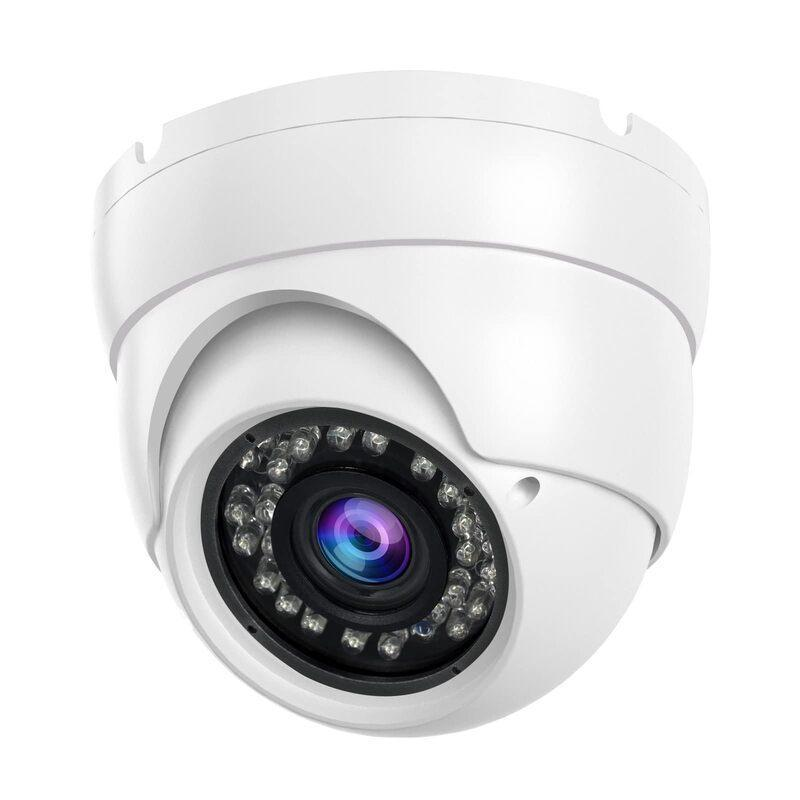turret: (81, 48, 755, 767)
